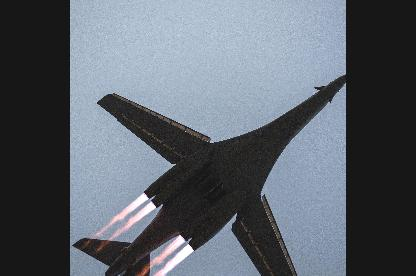AV8B: (72, 72, 346, 275)
